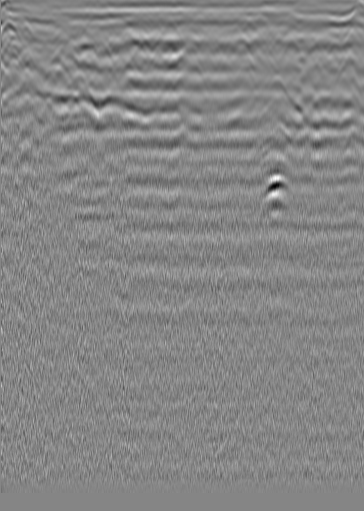가스: (261, 171, 290, 197)
상수: (38, 23, 58, 43)
오수: (310, 34, 330, 54)
우수: (146, 34, 166, 54)
